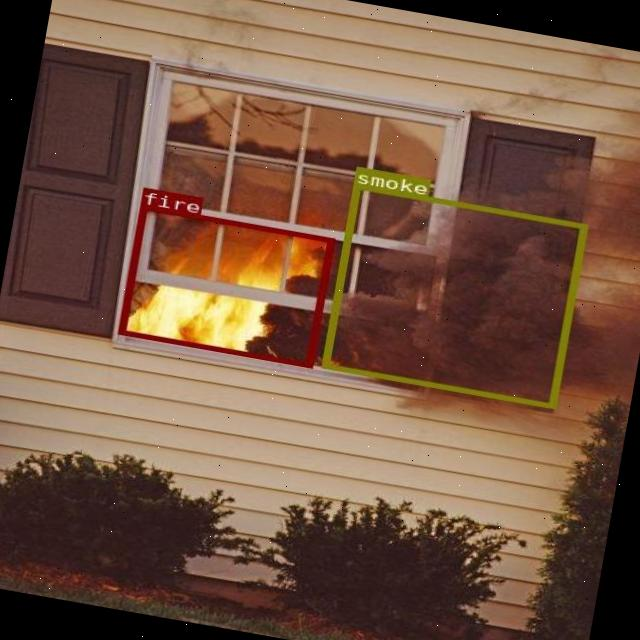fire: (118, 204, 332, 367)
smoke: (320, 182, 586, 406)
